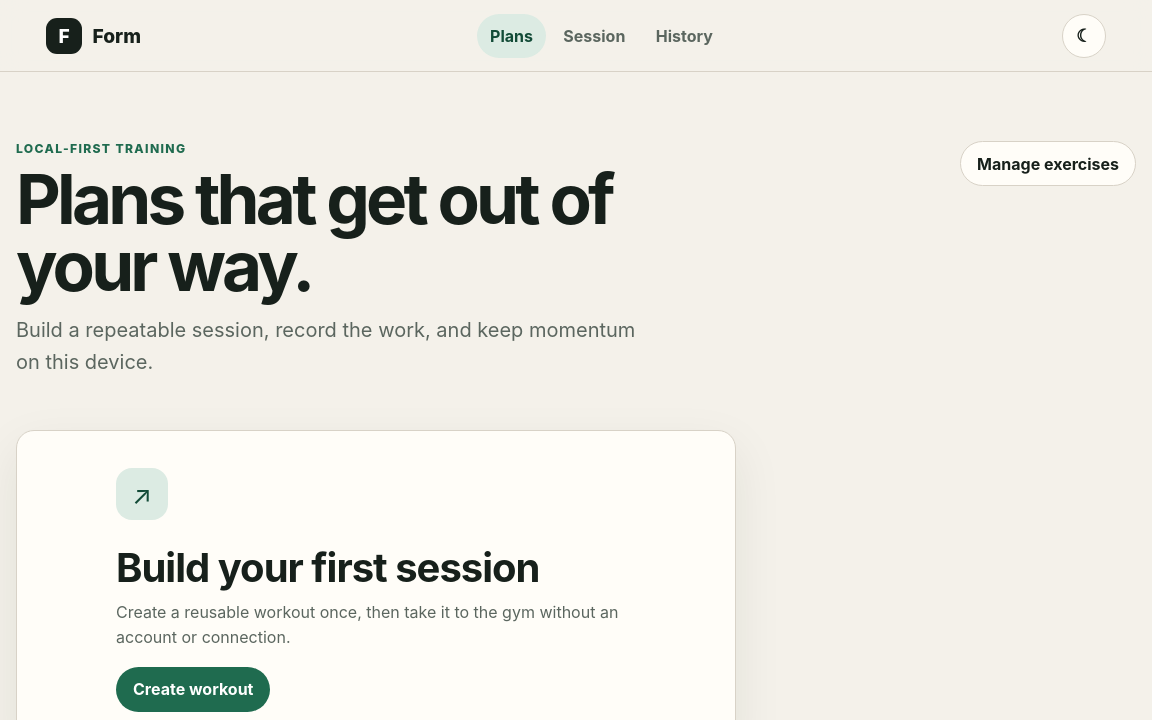
Custom Exercises — US3: Rename a Custom Exercise › C7: renames an exercise and shows the new name in the list
Click the button "Manage exercises" at (1048, 164), box [960,141,1136,186]
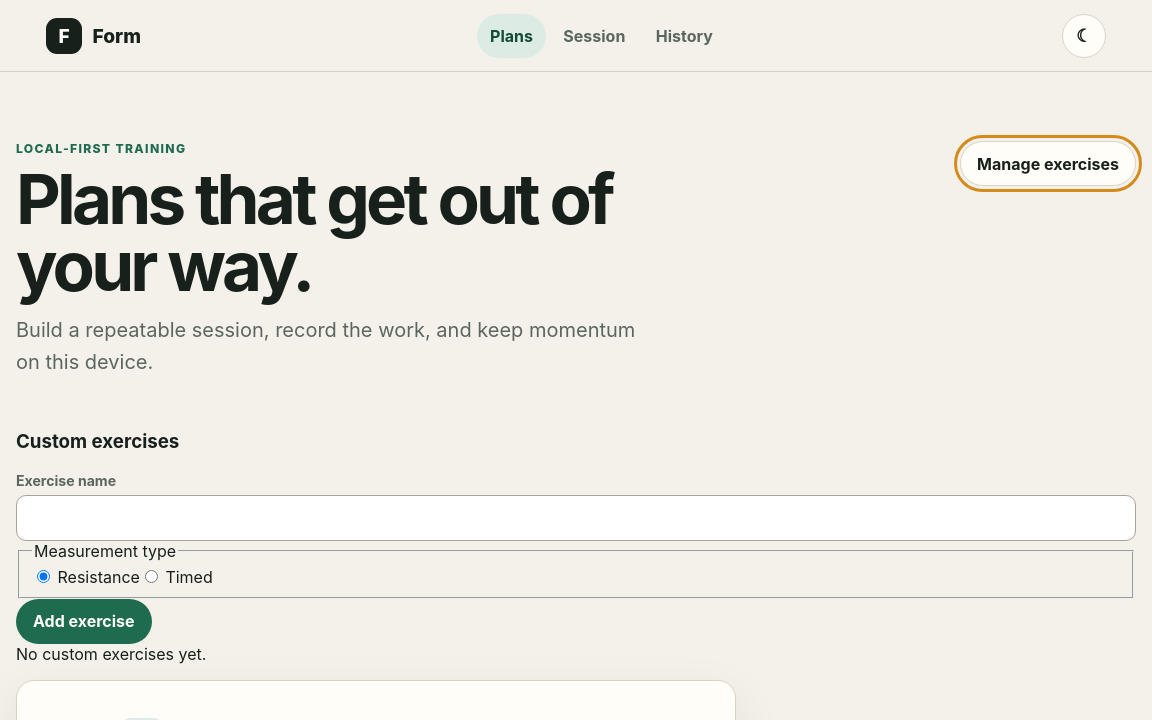
Type "Face Pull" into the field labelled "Exercise name" at (576, 518), box [16,495,1136,541]
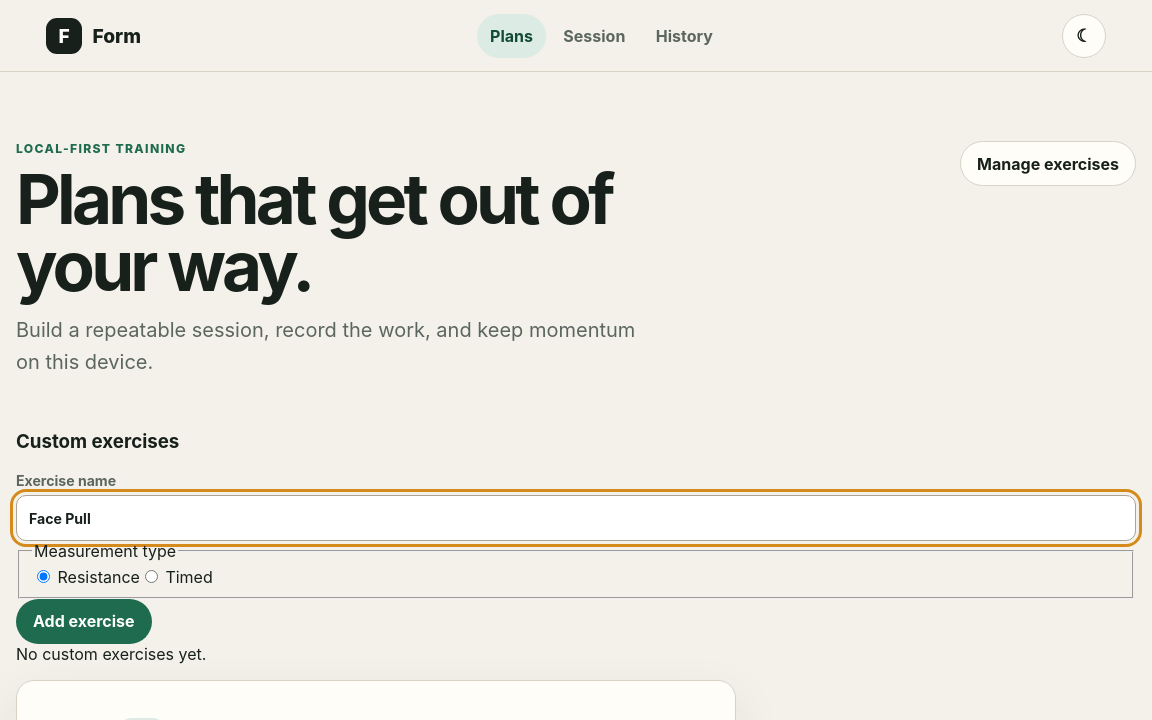
Click the button "Add exercise" at (84, 621), box [16,599,152,644]
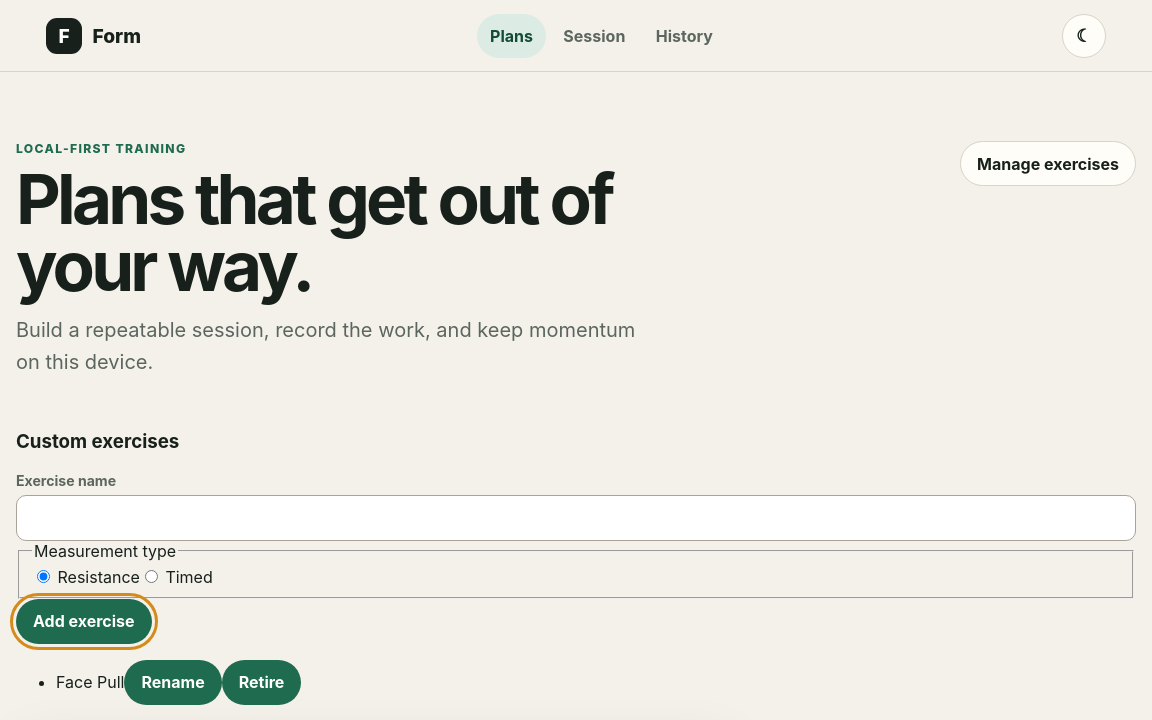
Expected: the text "Face Pull" is shown, [56,672,124,692]
Click the button with aria-label "rename face pull" at (173, 682), box [124,660,222,705]
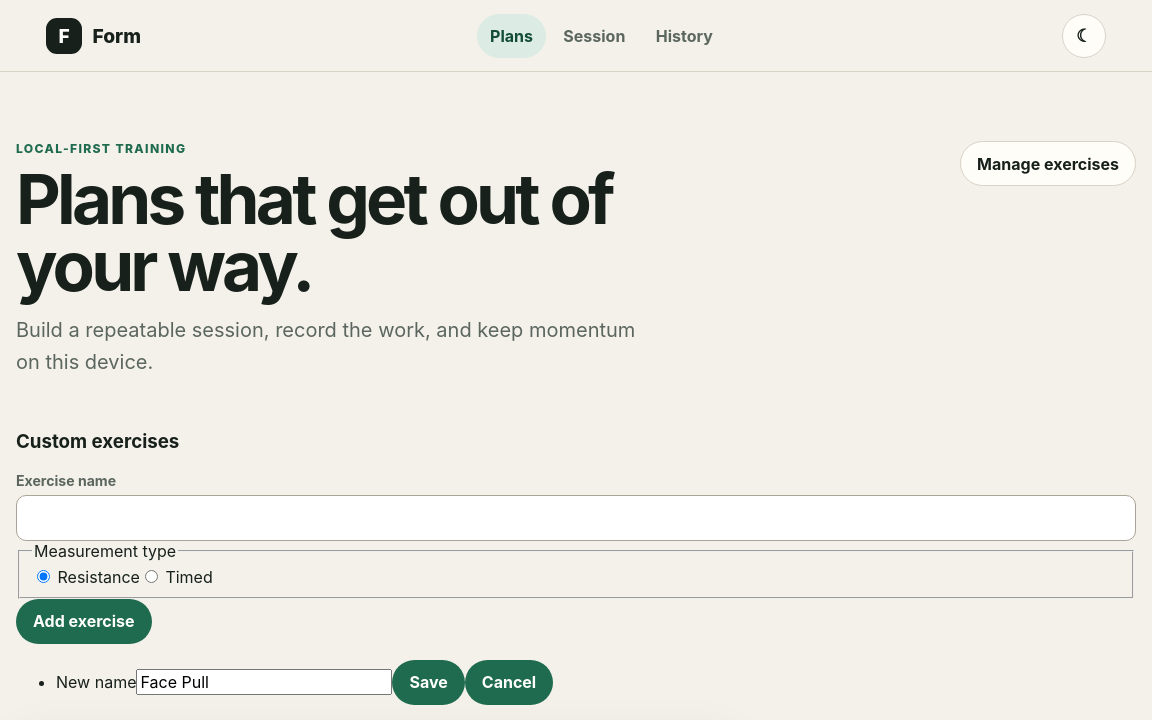
Replace the text in the field labelled "New name" with "Cable Face Pull" at (264, 682), box [136,669,392,695]
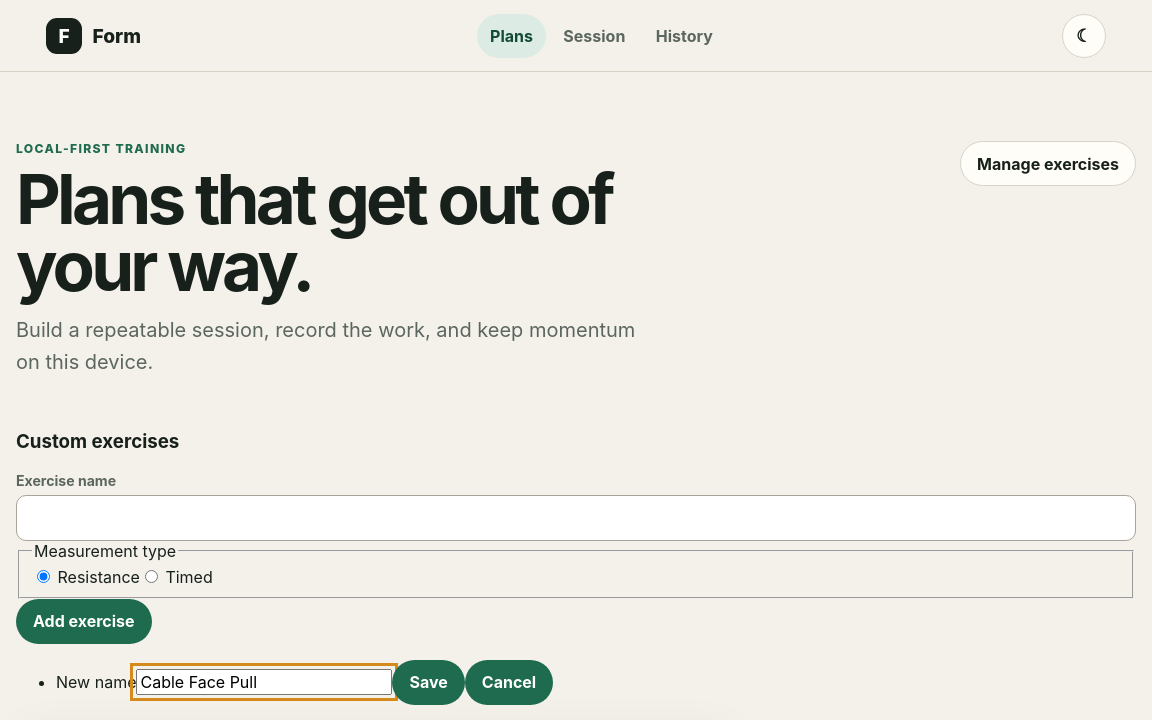
Click the button "Save" at (429, 682), box [392,660,465,705]
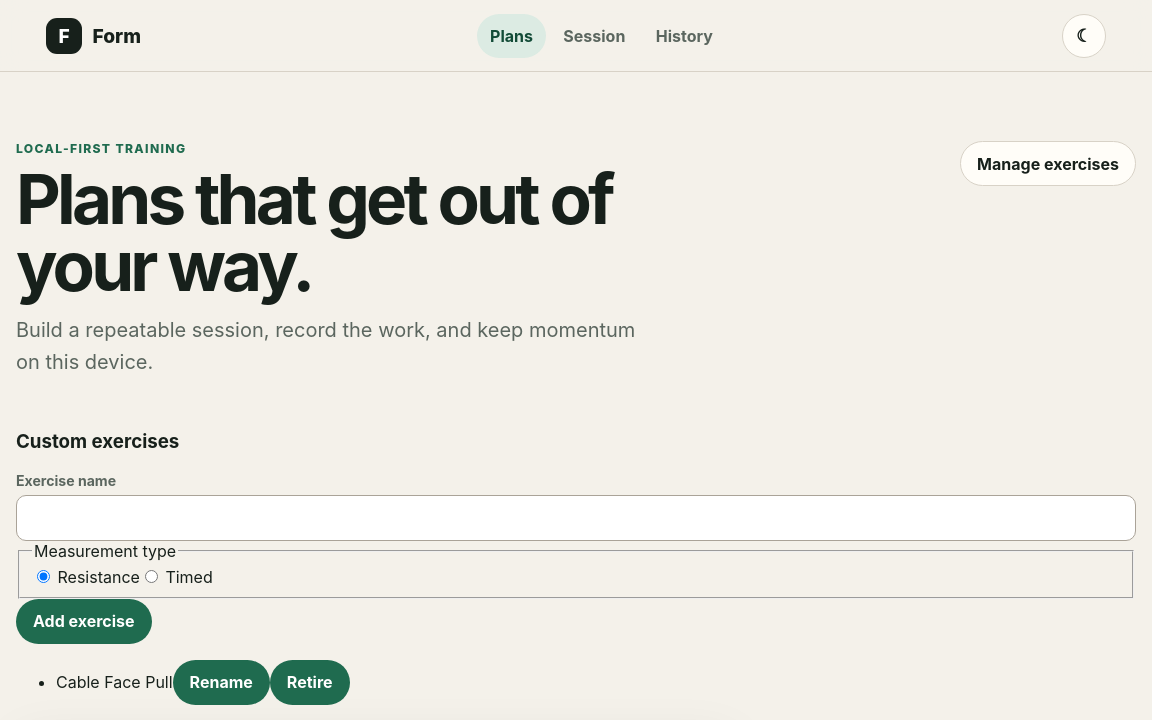
Expected: the text "Cable Face Pull" is shown, [56,672,173,692]
